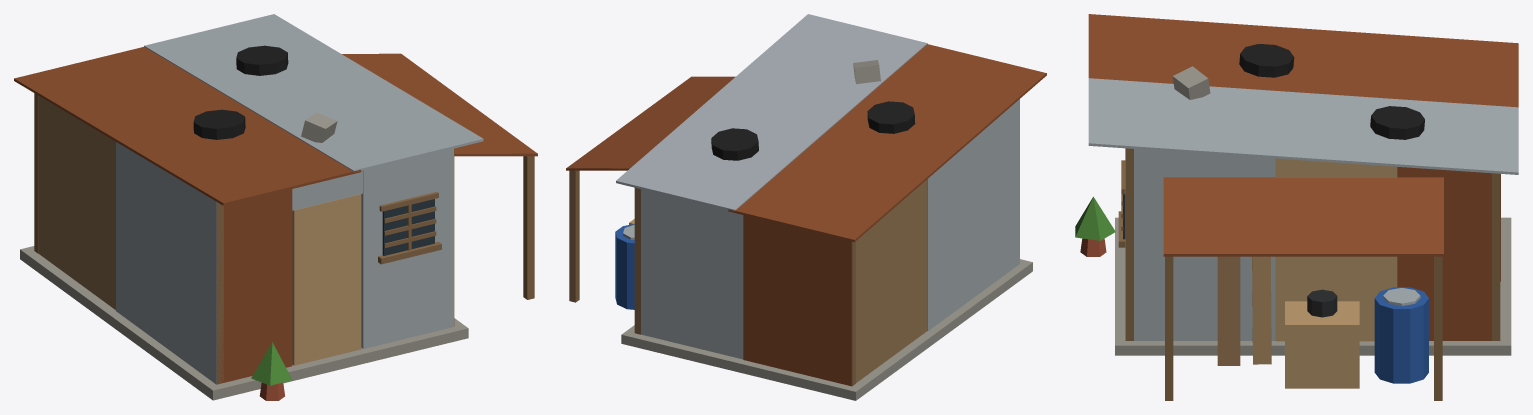
Rendered from BAY_I_TinShack_D.glb.
3 views of the same model, side by side, from view 1: azimuth 30°, elevation 25°; view 2: azimuth 150°, elevation 25°; view 3: azimuth 270°, elevation 25° (orthographic). The views are drawn at different scales.
Parts seen in each view (by area): view 1: BAY_I_TinShack_D; view 2: BAY_I_TinShack_D; view 3: BAY_I_TinShack_D.
Part boxes in pixels (x1=…): BAY_I_TinShack_D: x1=14, y1=14, x2=537, y2=400; BAY_I_TinShack_D: x1=566, y1=14, x2=1046, y2=400; BAY_I_TinShack_D: x1=1075, y1=14, x2=1518, y2=400.
Bounding box in the file's own units: 4.45 × 2.68 × 4.74.
1 material, 1 textured.
